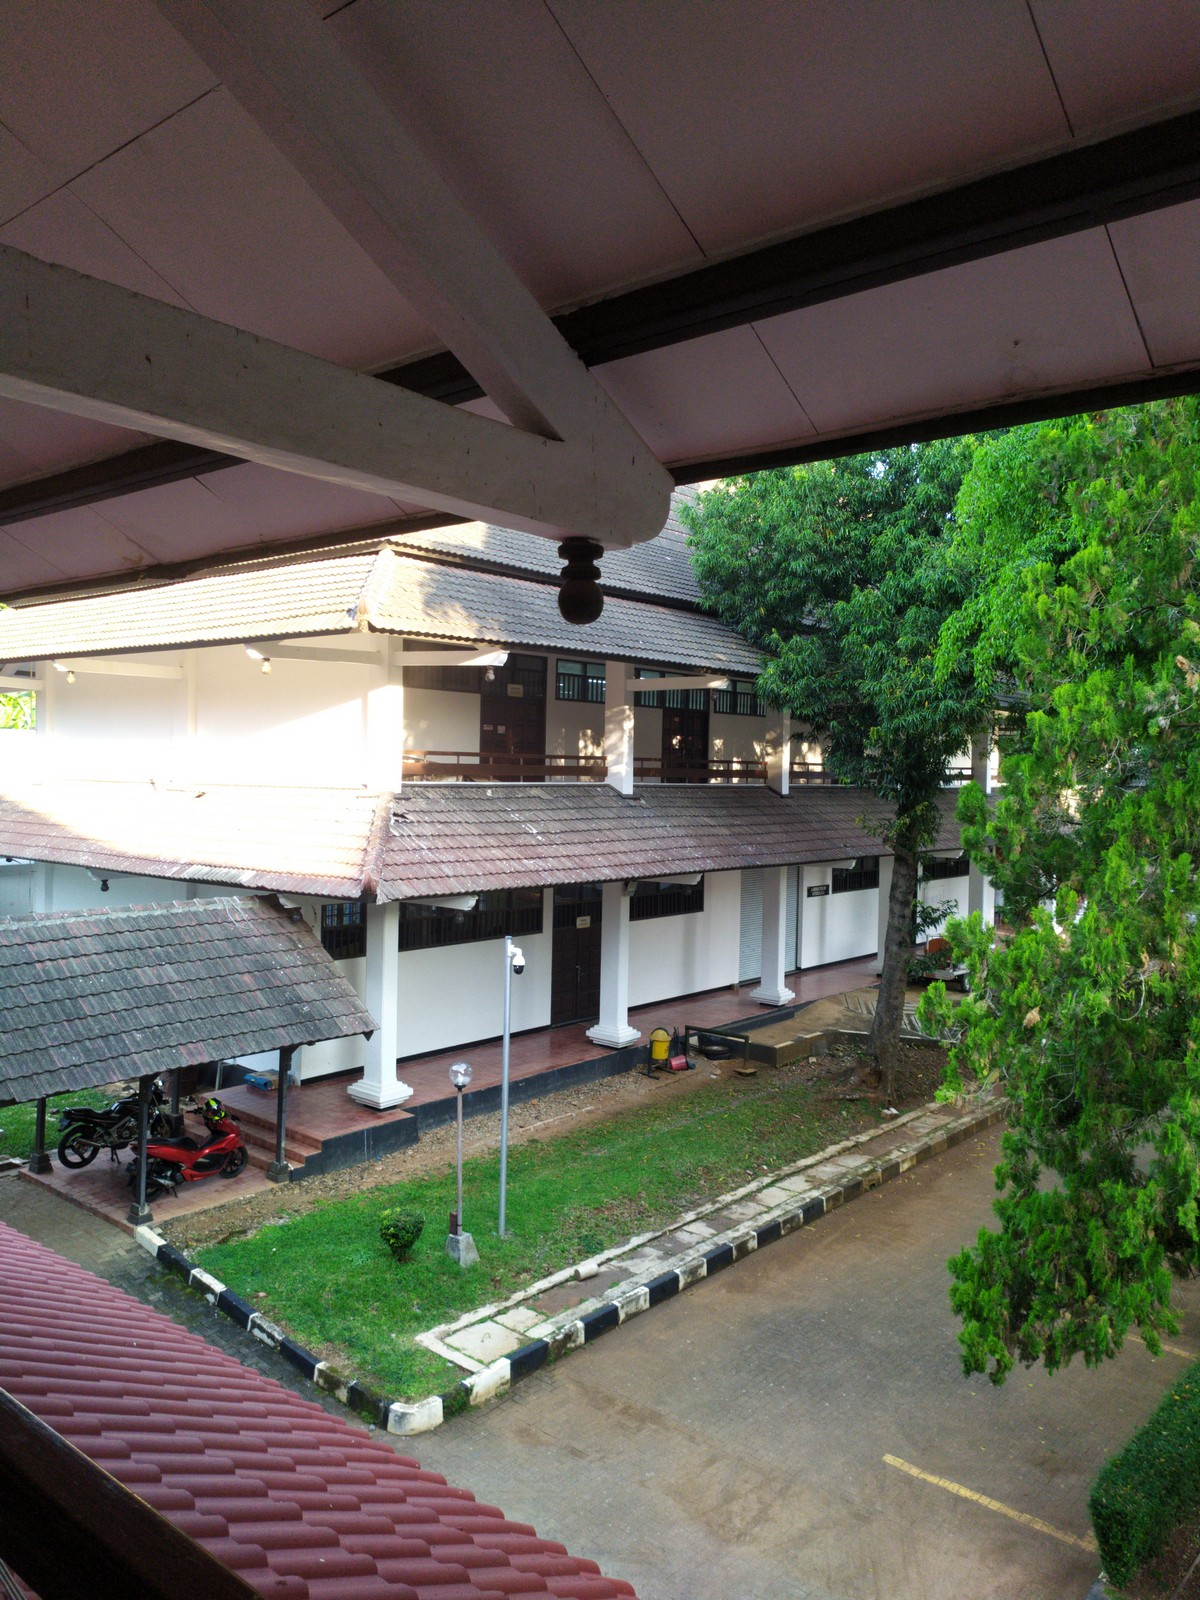concrete beam: (4, 254, 558, 539)
concrete column: (358, 901, 405, 1091), (368, 643, 413, 796), (596, 886, 634, 1031), (604, 663, 642, 800), (761, 871, 789, 986)
